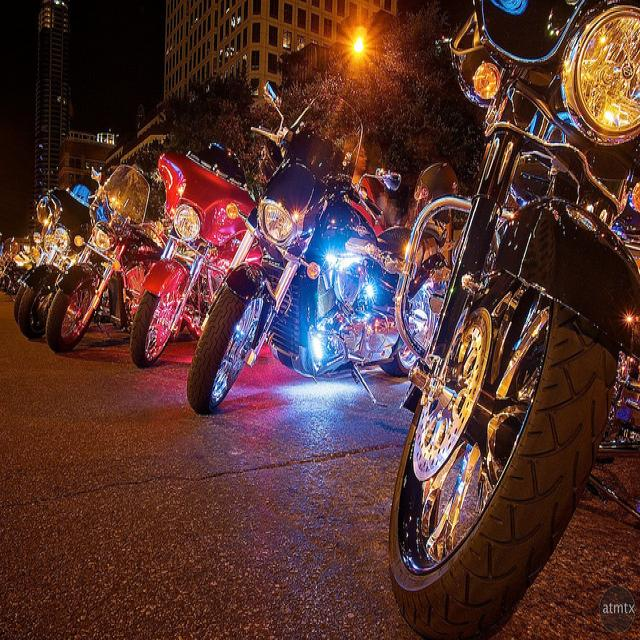motor: (389, 2, 640, 630), (184, 81, 412, 413), (131, 143, 258, 368), (43, 162, 161, 356), (16, 186, 95, 343), (0, 237, 36, 291)
